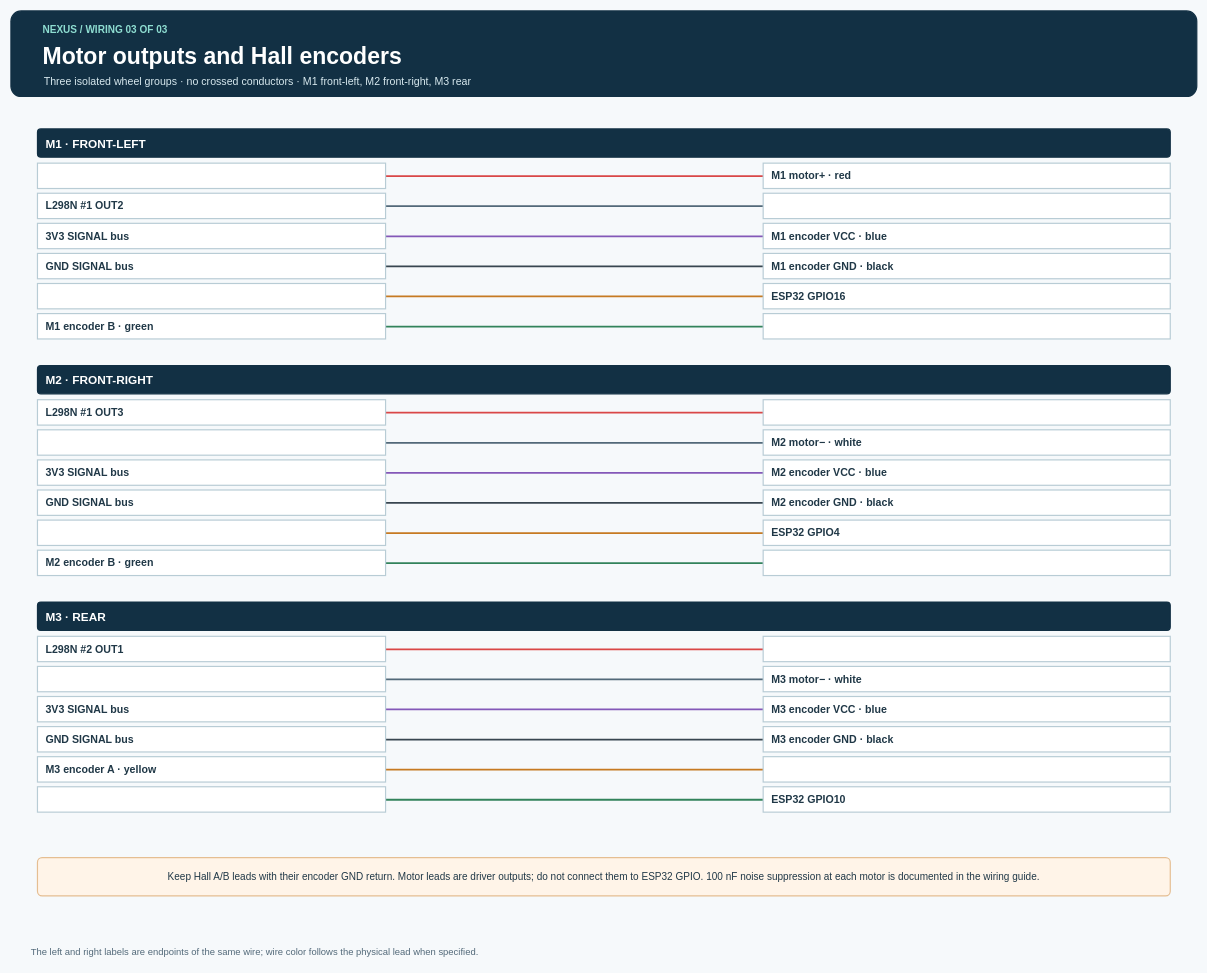
The diagram is 1207 pixels wide and 973 high, and some of its shapes have lost their labels. The shapes that lost their labels are listed below. From the top down, each one's centre as x and y in pixels, then its label:
(211,175): L298N #1 OUT1
(966,205): M1 motor− · white
(211,296): M1 encoder A · yellow
(966,326): ESP32 GPIO17
(966,412): M2 motor+ · red
(211,442): L298N #1 OUT4
(211,532): M2 encoder A · yellow
(966,562): ESP32 GPIO5
(966,648): M3 motor+ · red
(211,679): L298N #2 OUT2
(966,769): ESP32 GPIO9
(211,799): M3 encoder B · green
